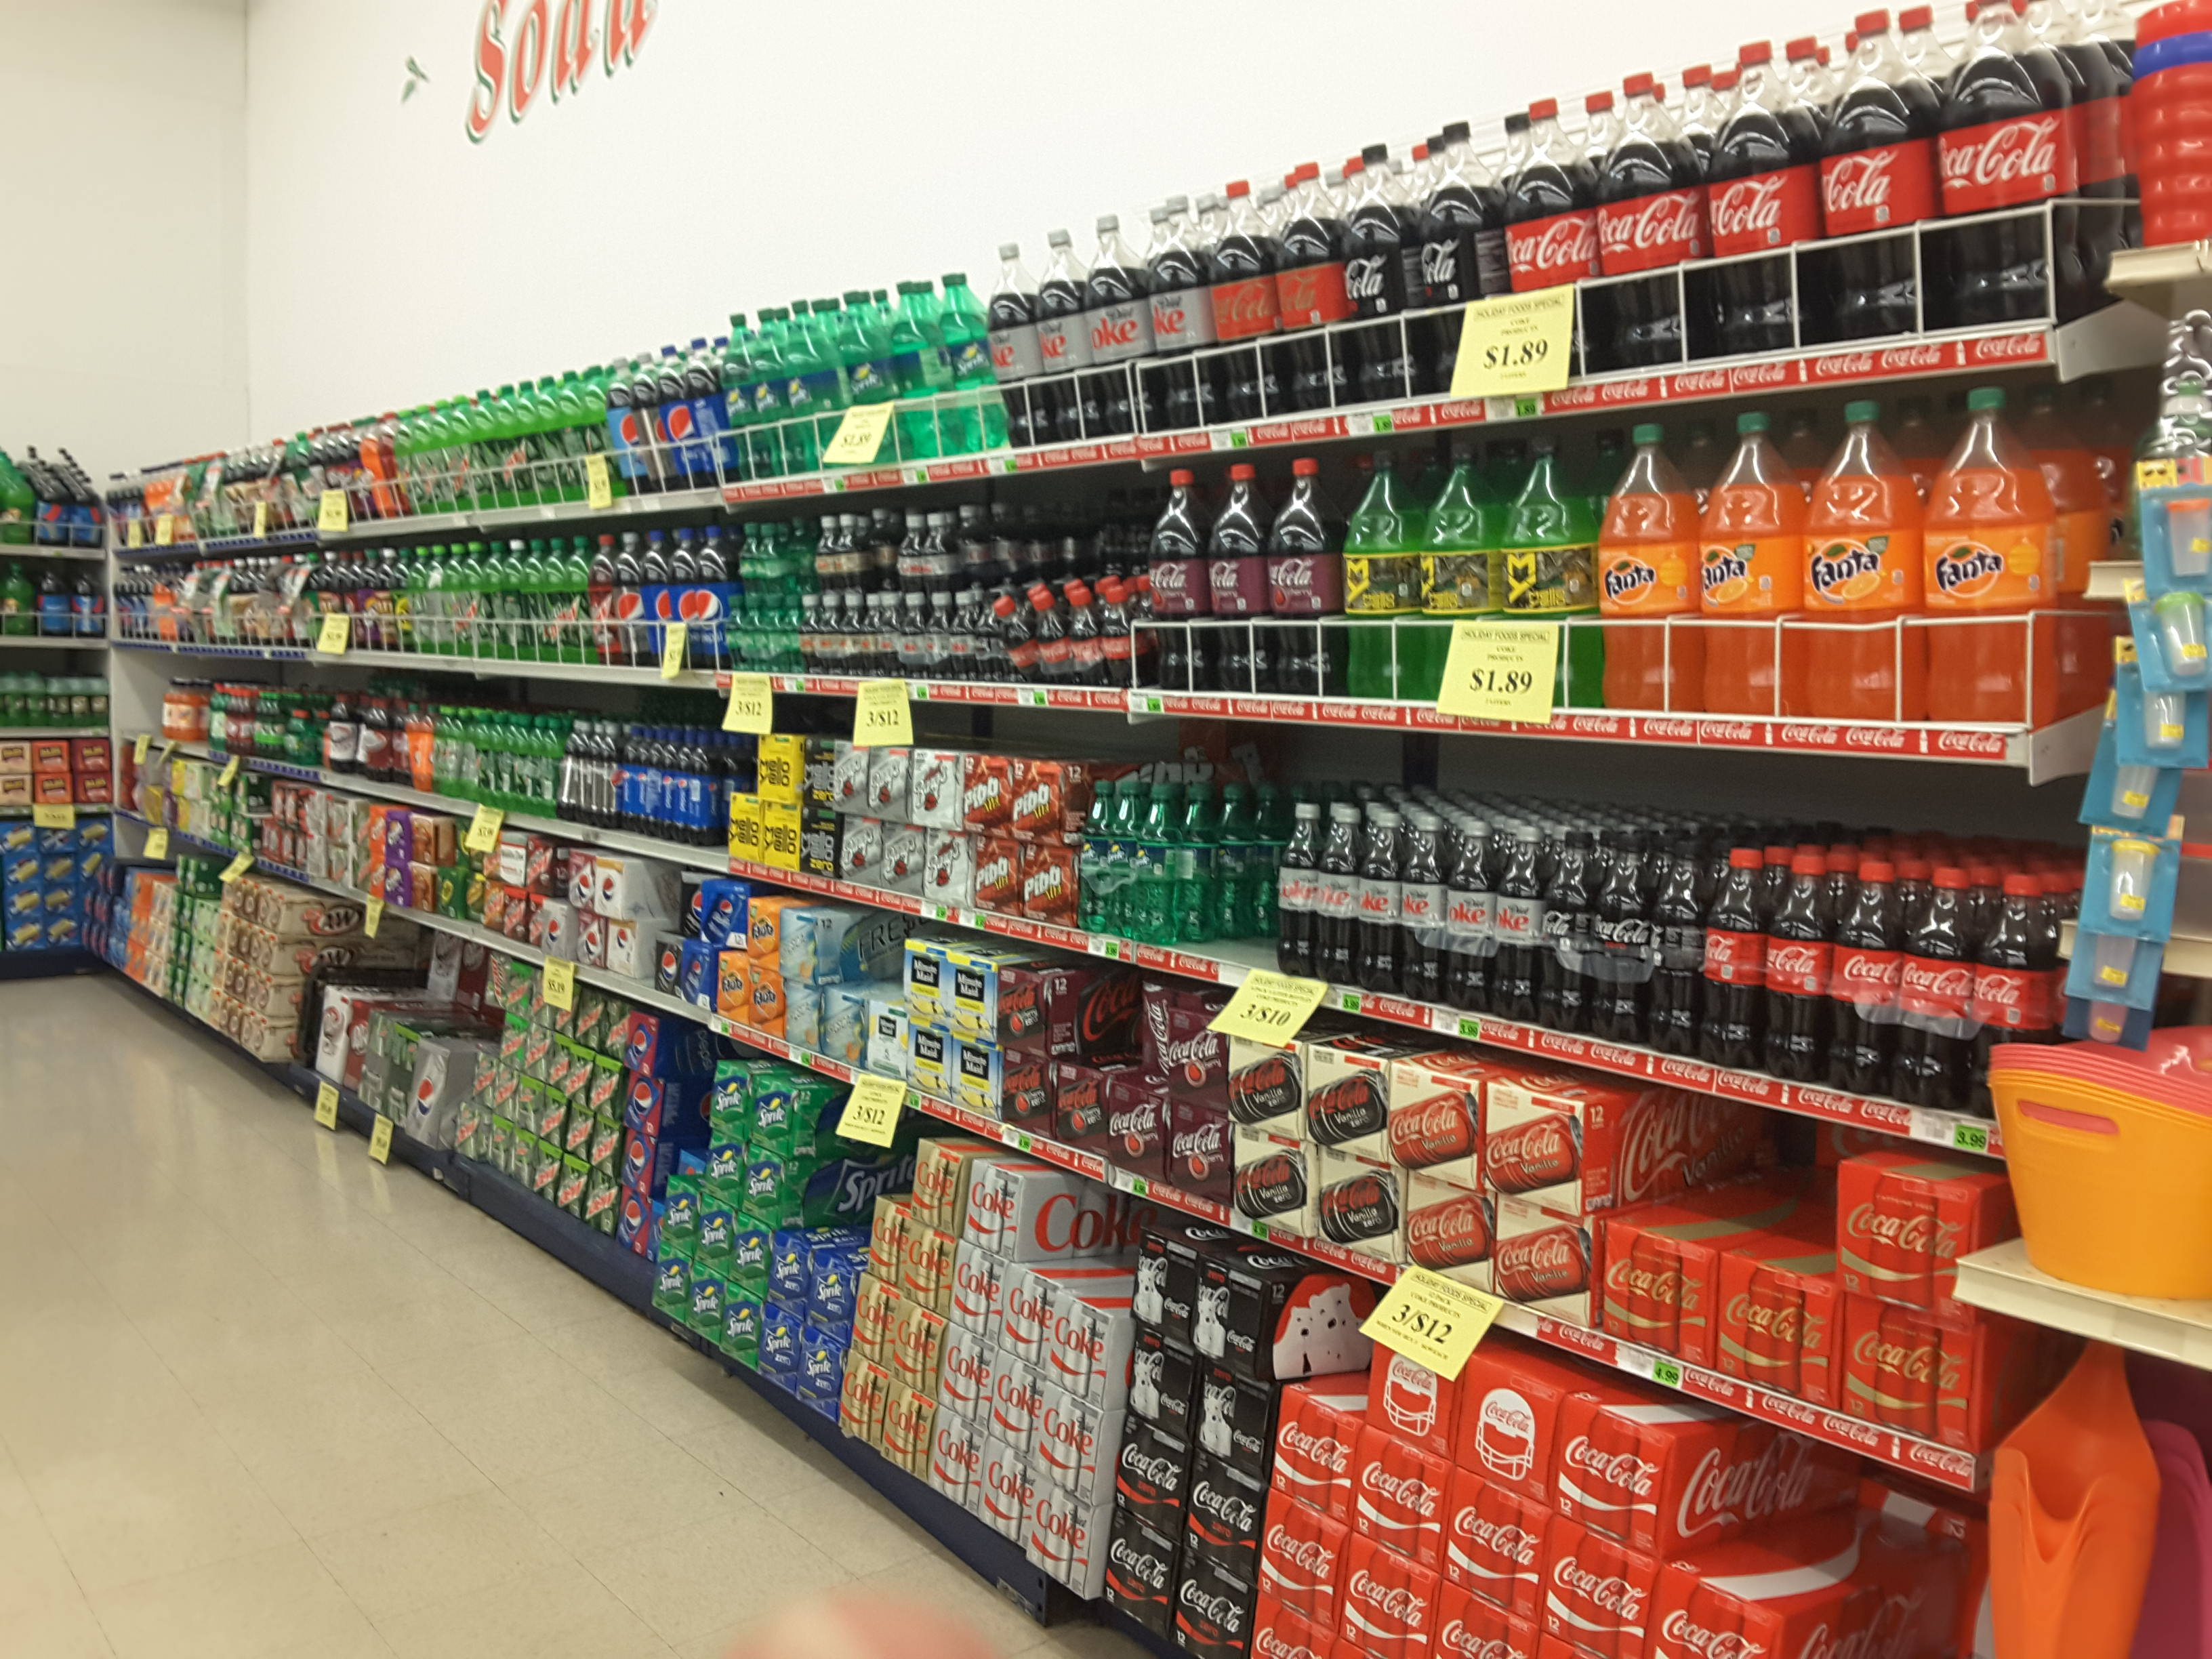Misplacement: (1571, 1119, 1926, 1429)
Out-of-stock: (1143, 788, 1278, 978)
